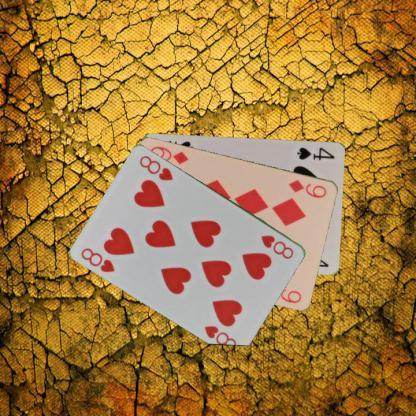4s: (294, 144, 336, 162)
8h: (258, 232, 296, 261), (78, 245, 116, 274)
9d: (286, 176, 328, 200)
